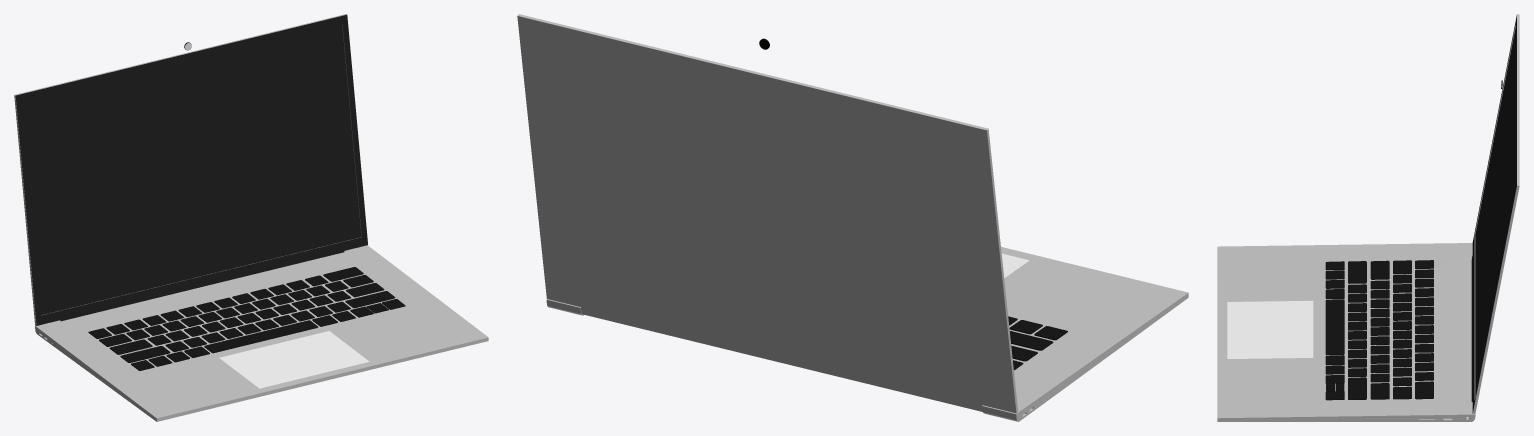
File: laptop3.glb
3 views of the same model, side by side, from view 1: azimuth 30°, elevation 25°; view 2: azimuth 150°, elevation 25°; view 3: azimuth 270°, elevation 25° (orthographic). The views are drawn at different scales.
Parts seen in each view (by area): view 1: Display_Display_Plane, Silver_colour_Cover_Cover_Plane, Keyboard_Keyboard_Plane; view 2: Display_Display_Plane, Silver_colour_Cover_Cover_Plane, Keyboard_Keyboard_Plane; view 3: Silver_colour_Cover_Cover_Plane, Keyboard_Keyboard_Plane, Display_Display_Plane.
Boxes of the visible parts, <box> form: Display_Display_Plane: <box>14,14,368,325</box>; Silver_colour_Cover_Cover_Plane: <box>35,245,488,421</box>; Keyboard_Keyboard_Plane: <box>88,267,405,370</box>; Display_Display_Plane: <box>517,14,1017,413</box>; Silver_colour_Cover_Cover_Plane: <box>546,247,1188,421</box>; Keyboard_Keyboard_Plane: <box>1008,316,1067,370</box>; Silver_colour_Cover_Cover_Plane: <box>1217,243,1475,421</box>; Keyboard_Keyboard_Plane: <box>1325,260,1433,400</box>; Display_Display_Plane: <box>1471,14,1519,413</box>.
Size of the model in its own units: 0.38 by 0.2645 by 0.2828.
Materials: 8 (1 with a texture image).
